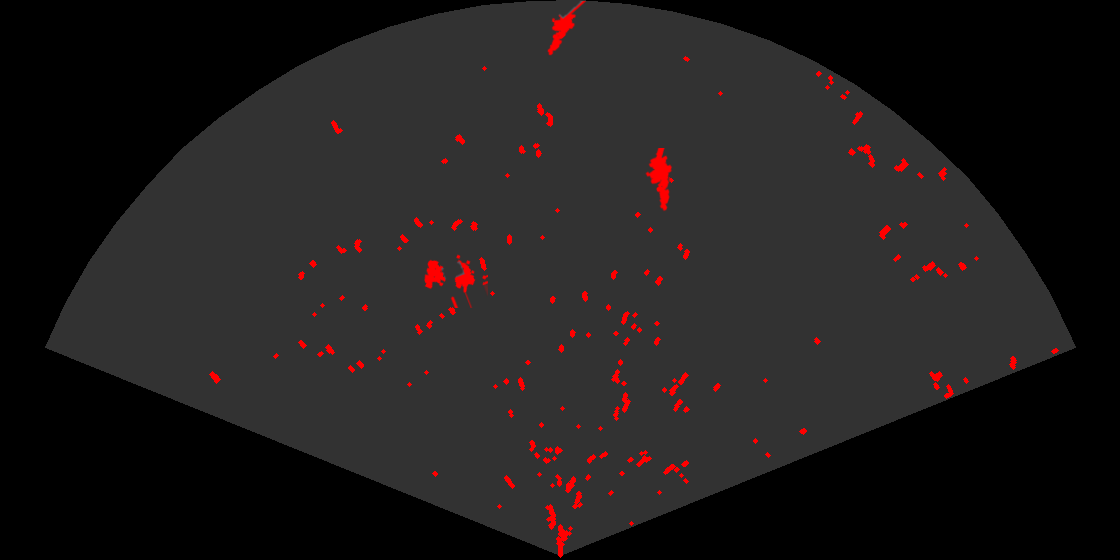cage: (423, 253, 488, 308)
frogman: (546, 1, 588, 57), (644, 148, 674, 212)
